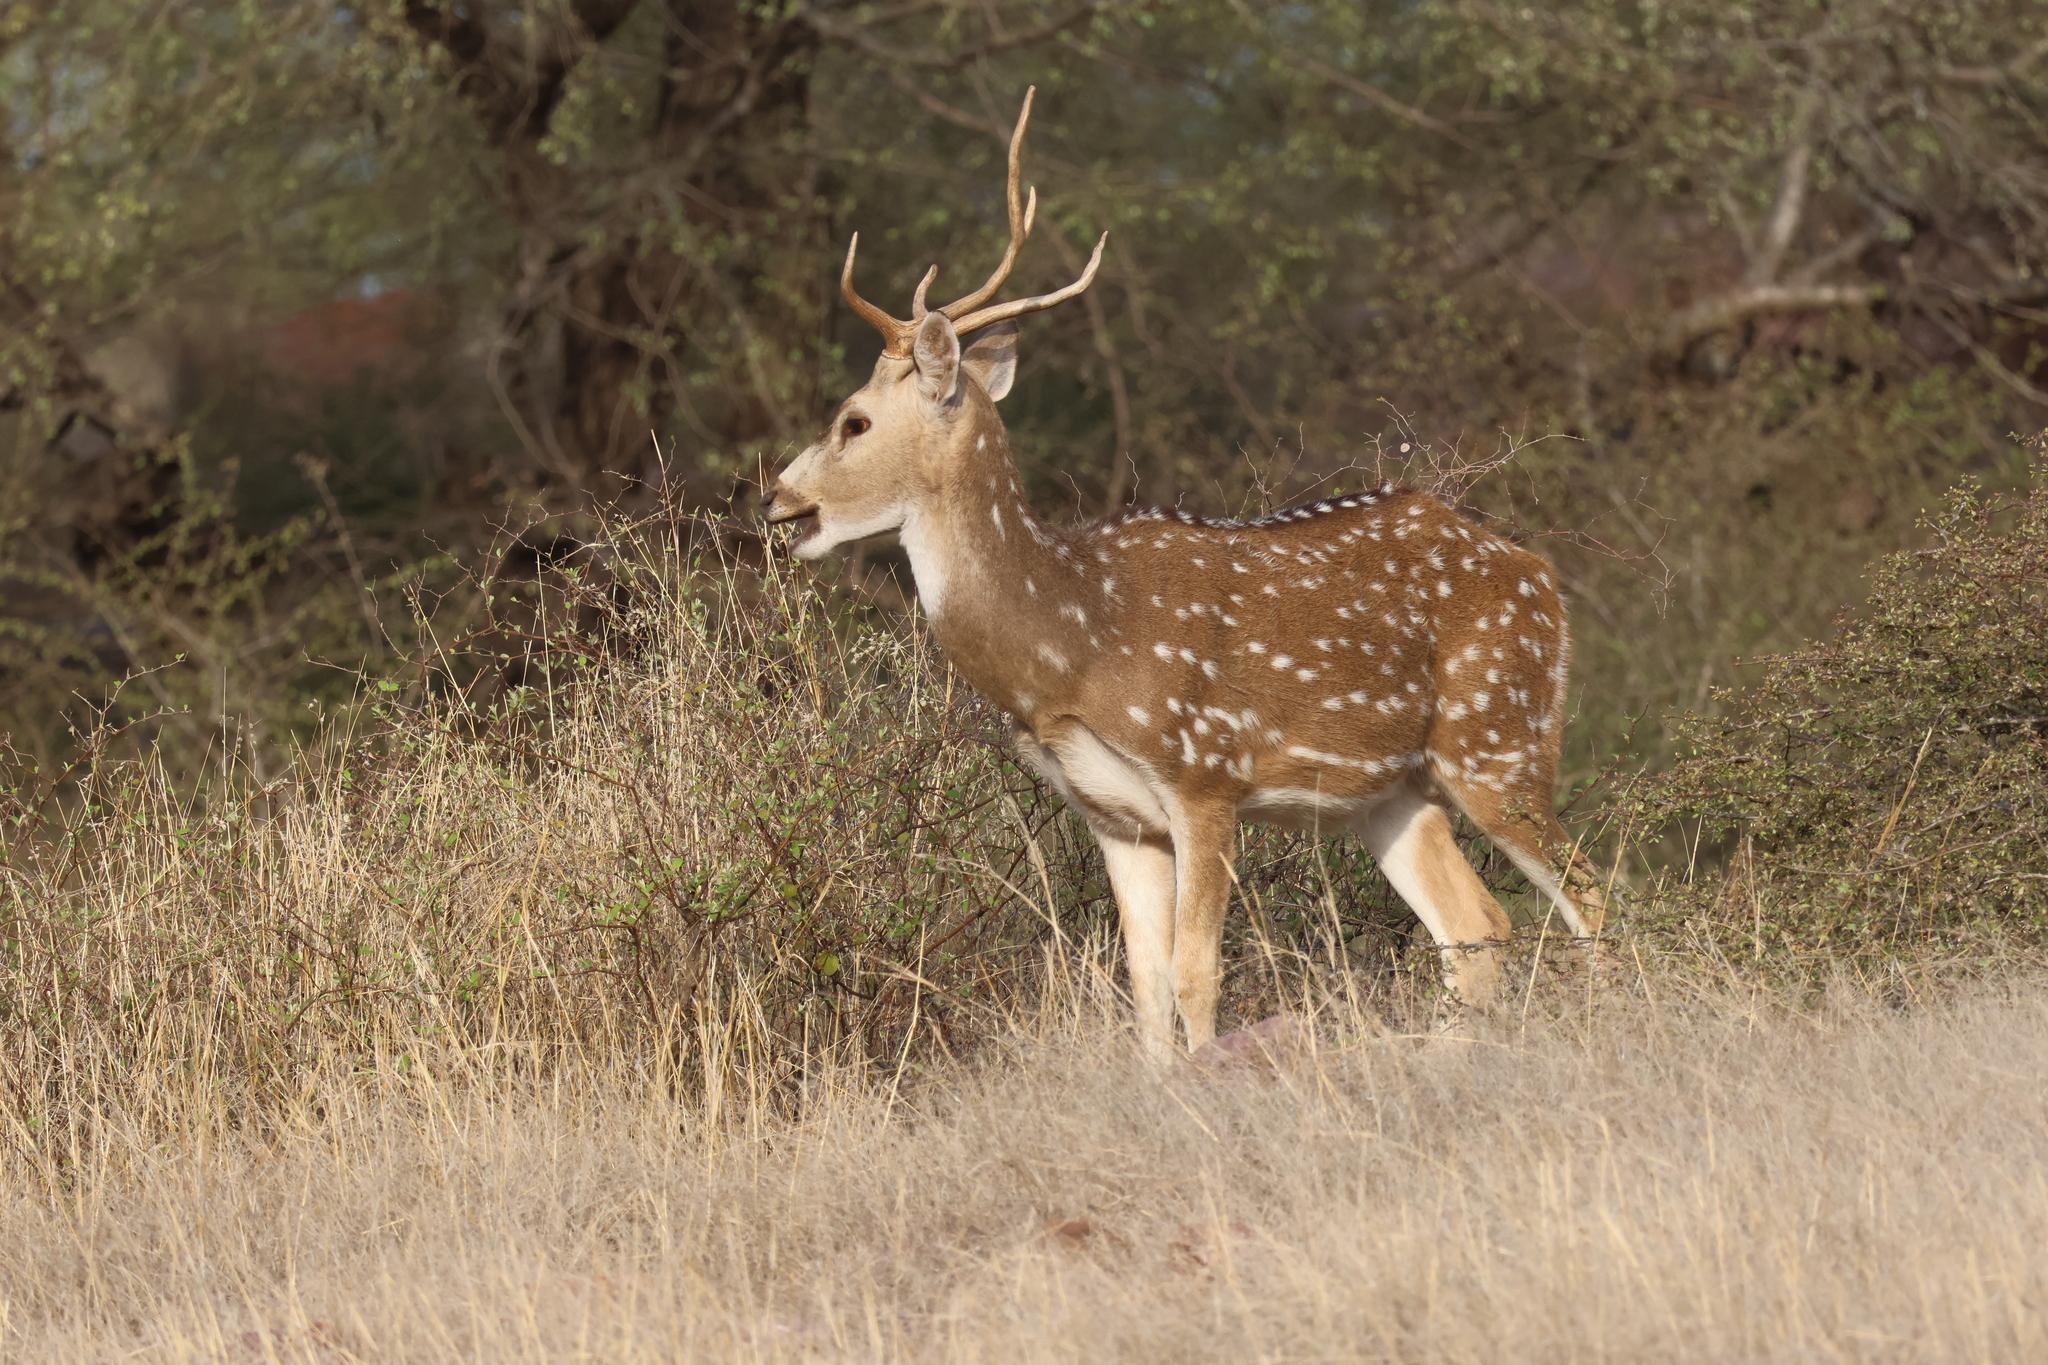Deer: (764, 87, 1603, 1063)
